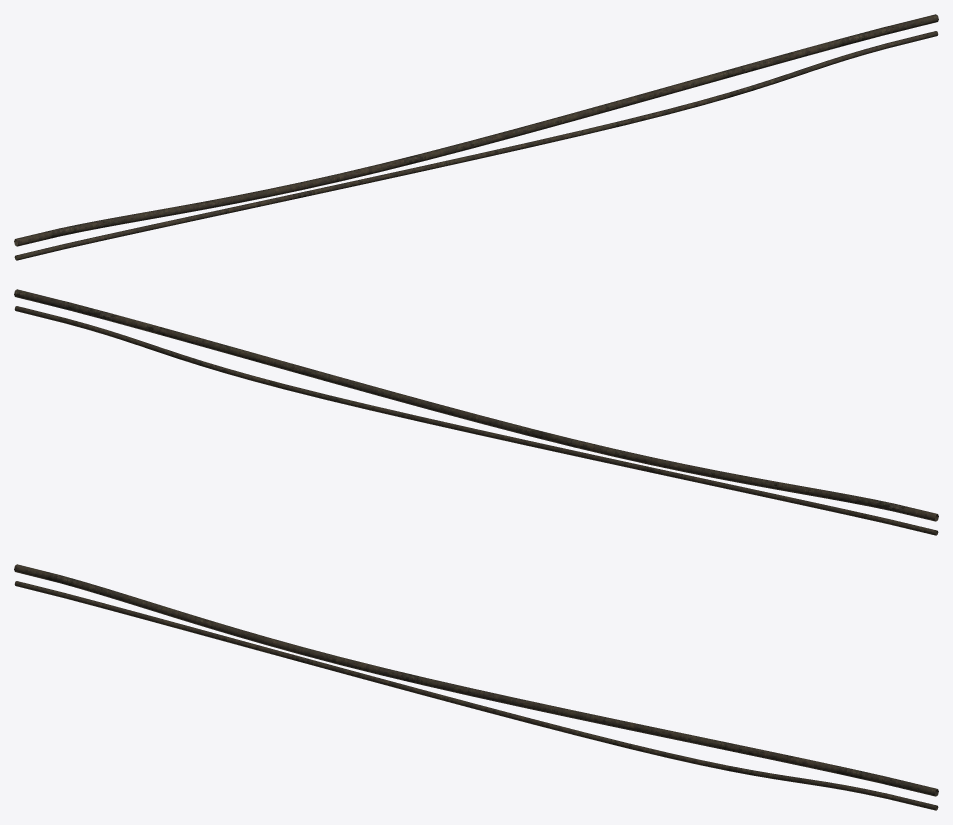
Rendered from wires_hr_2_1.glb.
3 views of the same model, one above another, from view 1: azimuth 30°, elevation 25°; view 2: azimuth 150°, elevation 25°; view 3: azimuth 330°, elevation 25° (orthographic).
Visible parts, largest first — view 1: wires_hr_2_1; view 2: wires_hr_2_1; view 3: wires_hr_2_1.
Boxes of the visible parts, <box> form: wires_hr_2_1: <box>14,14,938,260</box>; wires_hr_2_1: <box>14,289,938,535</box>; wires_hr_2_1: <box>14,564,938,810</box>.
Size of the model in its own units: 4 by 0.1396 by 0.03.
Materials: 1 (1 with a texture image).
